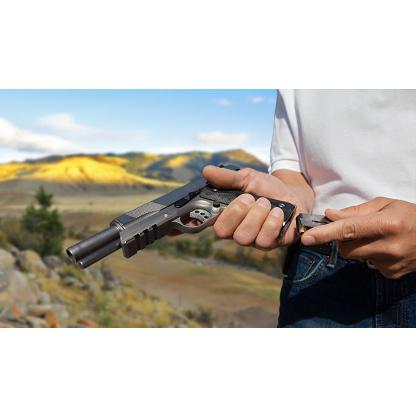gun: (63, 163, 302, 270)
